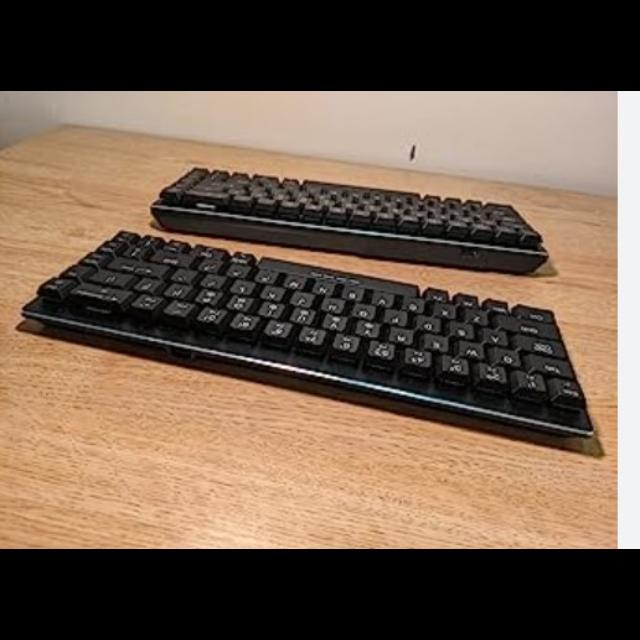Computer-Keyboard: (19, 231, 600, 457), (150, 168, 549, 277)
